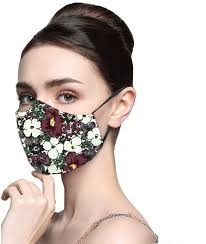with-mask: (12, 44, 141, 182)
